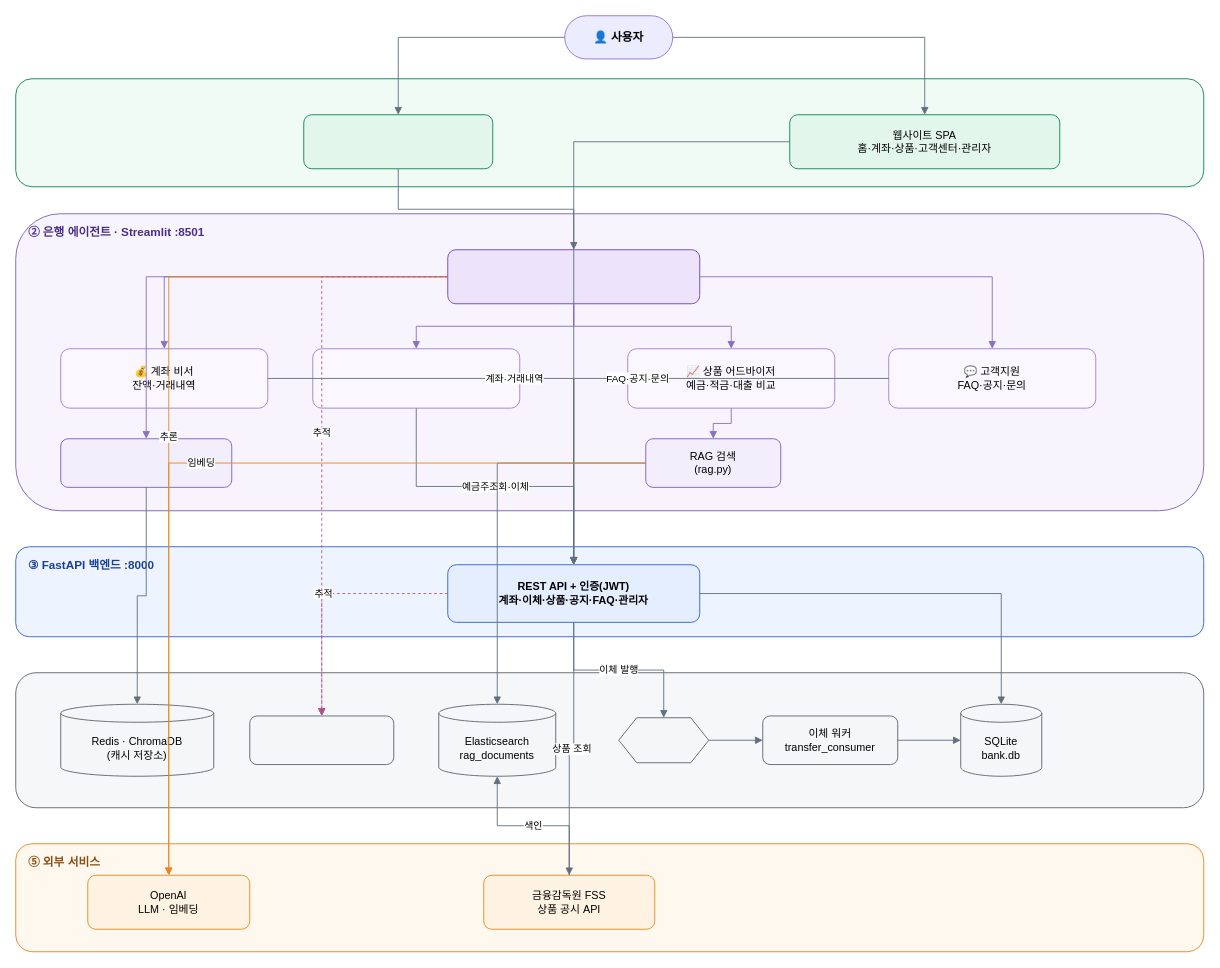
Some shapes in this 1220 by 968 pixel diagram are drawn without their labels. The shapes that lost their labels are listed below. From the top down, each one's box as (x1, y1, x2, y2) in pixels, then its label:
(303, 114, 493, 169): AI 챗봇 (iframe)
(15, 78, 1204, 187): ① 채널 · 프런트엔드
(447, 249, 700, 304): 🧠 오케스트레이터 OpenAI 도구호출 · 라우팅
(312, 348, 520, 408): 💸 이체 도우미 예금주확인·이체제안
(60, 438, 232, 487): 시맨틱 캐시 (cache.py)
(249, 715, 394, 765): Phoenix OTEL 추적 :6006
(15, 672, 1204, 808): ④ 데이터 · 인프라
(618, 717, 709, 763): Kafka
